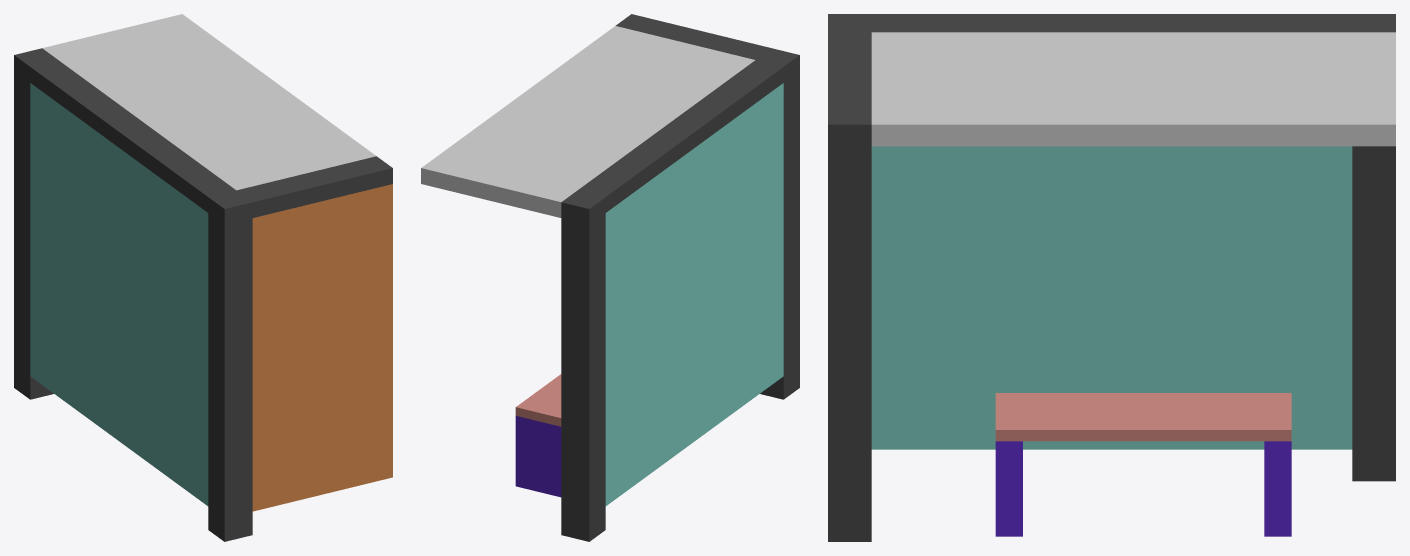
Rendered from bus shelter.fbx.
3 renders of one model, left to right at view 1: azimuth 30°, elevation 25°; view 2: azimuth 150°, elevation 25°; view 3: azimuth 270°, elevation 25°, orthographic. The views are drawn at different scales.
Visible parts, largest first — view 1: Cube; view 2: Cube; view 3: Cube.
Boxes of the visible parts, x1,y1,x2,y2 form: Cube: [14, 14, 392, 541]; Cube: [421, 14, 799, 541]; Cube: [828, 14, 1395, 541].
Size of the model in its own units: 150 by 284 by 325.
